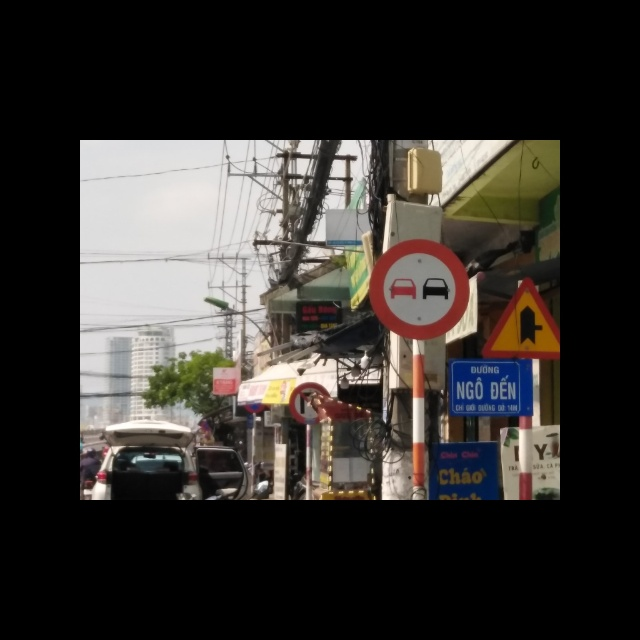Cấm vượt: (368, 237, 471, 341)
Giao nhau với đường không ưu tiên: (481, 274, 560, 360)
